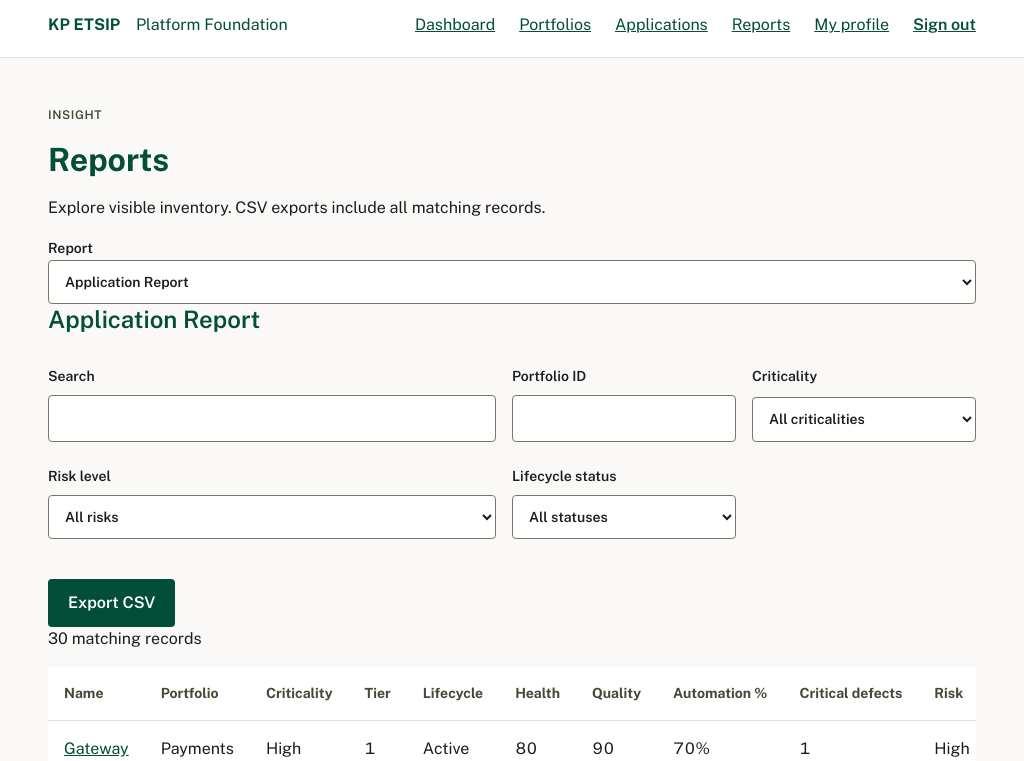
Test: reports › renders application and portfolio data and filters
Expected: the link "Gateway" is shown, [64,739,129,758]
Select "High" in the dropdown labelled "Risk level" at (272, 517), box [48,495,496,539]
(page scrolled)
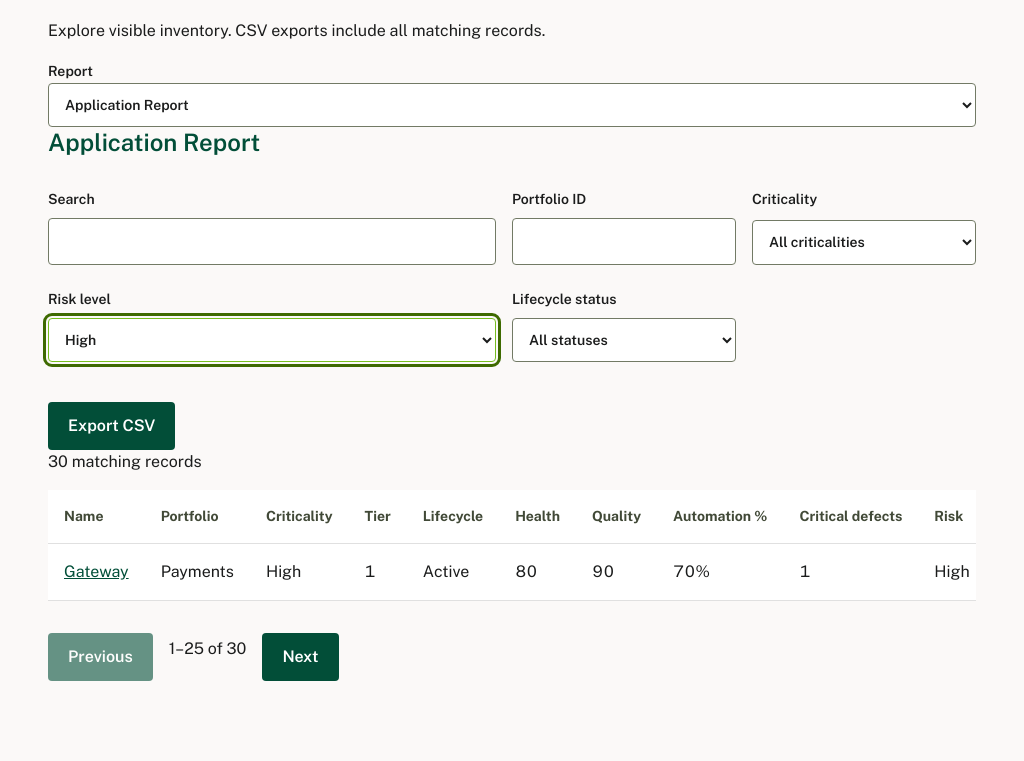
Click the button "Next" at (300, 657), box [262,633,338,681]
(page scrolled)
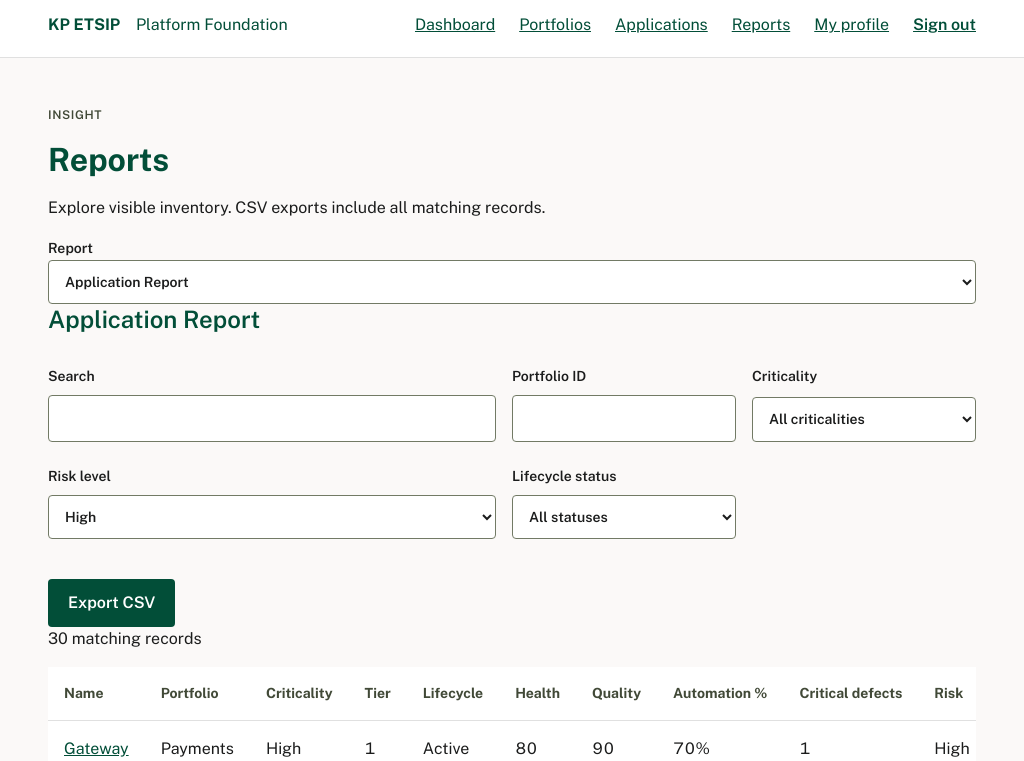
Select "Portfolio Report" in the dropdown labelled "Report" at (512, 282), box [48,260,976,304]
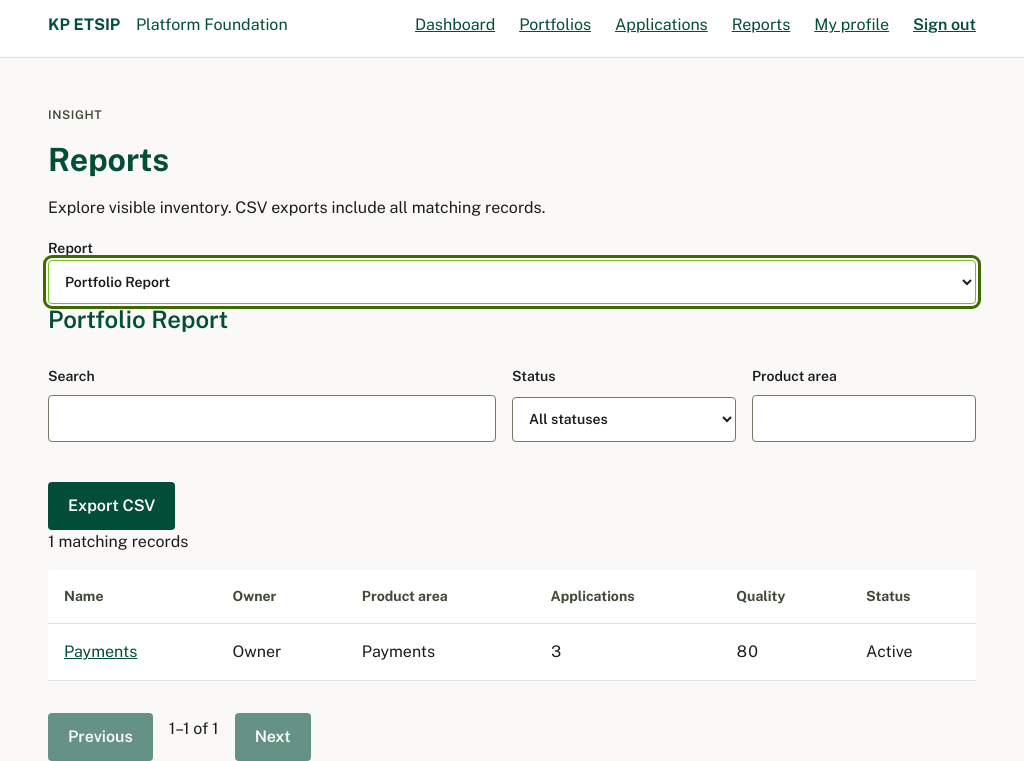
Now the link "Payments" is shown, box [64,642,137,661]
Now the heading "Portfolio Report" is shown, box [48,305,228,333]
